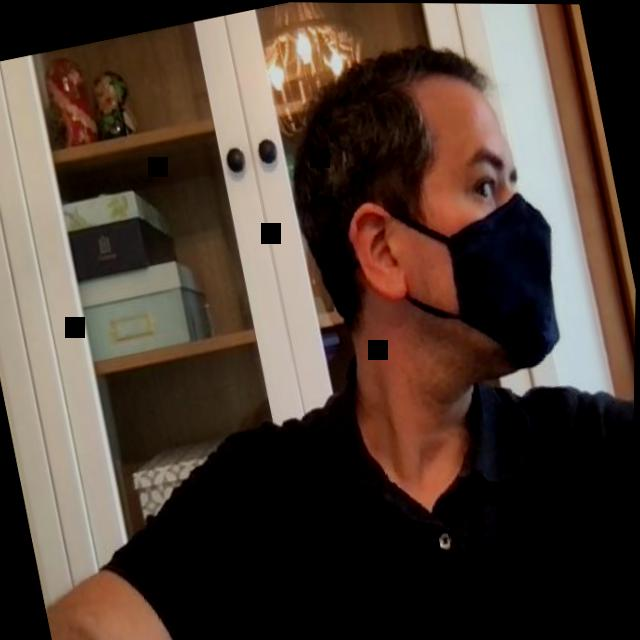Mask: (265, 18, 581, 412)
